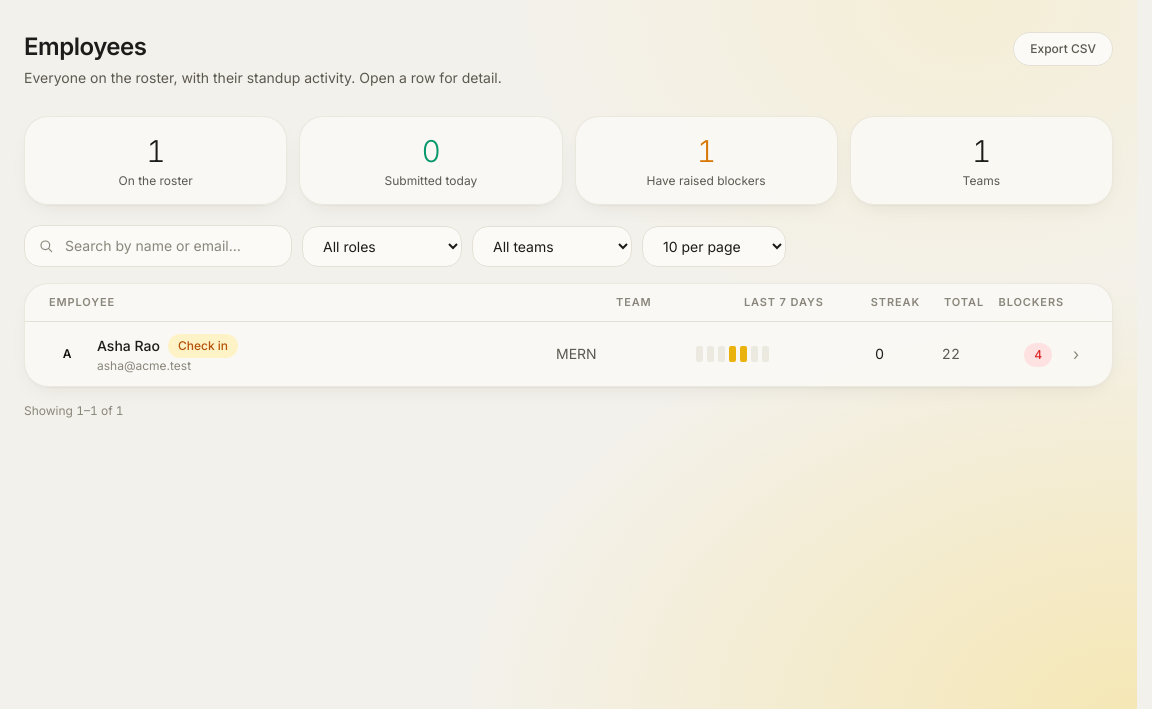
Test: signs of strain › marks somebody worth a check-in, and says why when they are opened
Expected: the text "Check in" is shown, [168,334,238,358]
Click the button "A Asha Rao Check in asha@acme.test MERN 0 22 4 ›": (568, 354) [25,322,1112,386]
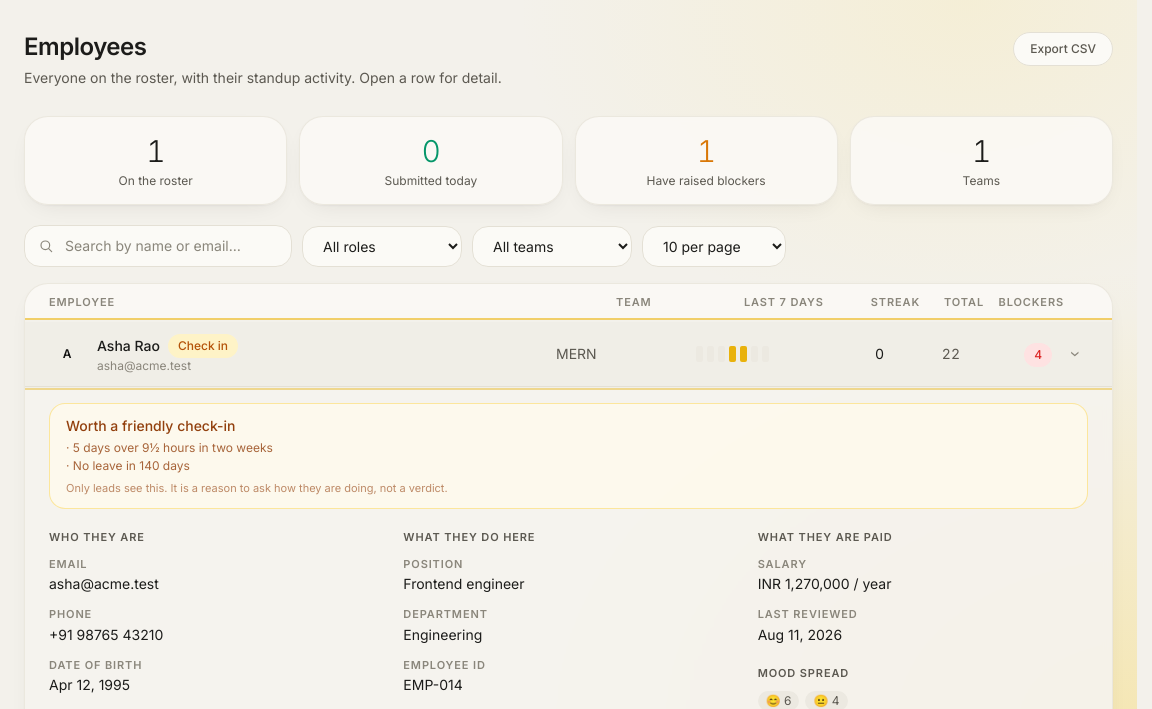
Expected: the text "Worth a friendly check-in" is shown, [66,417,236,434]
Expected: the list item "· 5 days over 9½ hours in two weeks" is shown, [66,440,273,455]
Expected: the text "not a verdict" is shown, [66,481,448,495]
